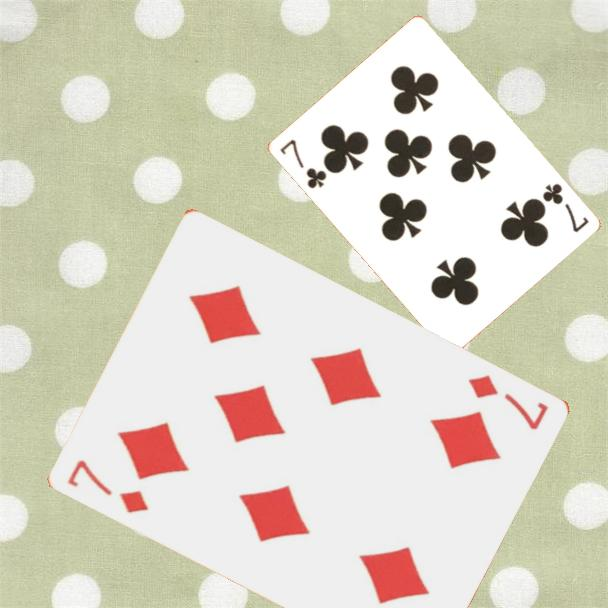c07: (276, 136, 329, 192), (539, 180, 591, 235)
d07: (463, 371, 551, 433), (63, 456, 151, 517)
